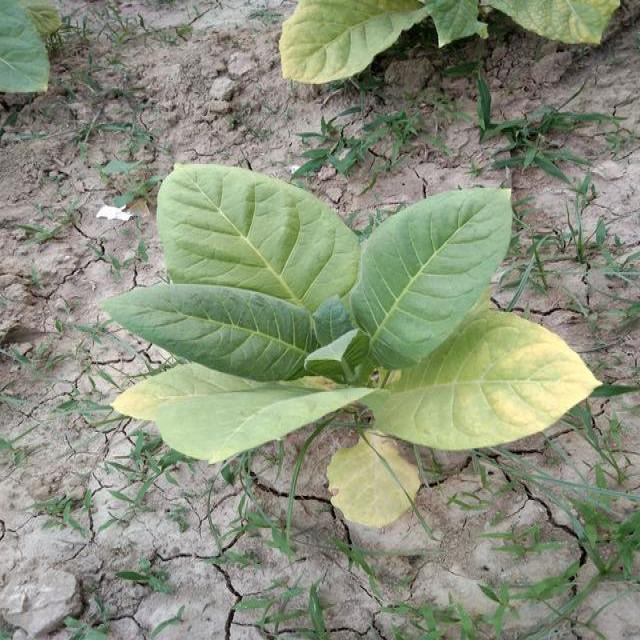crop: (109, 152, 597, 535)
